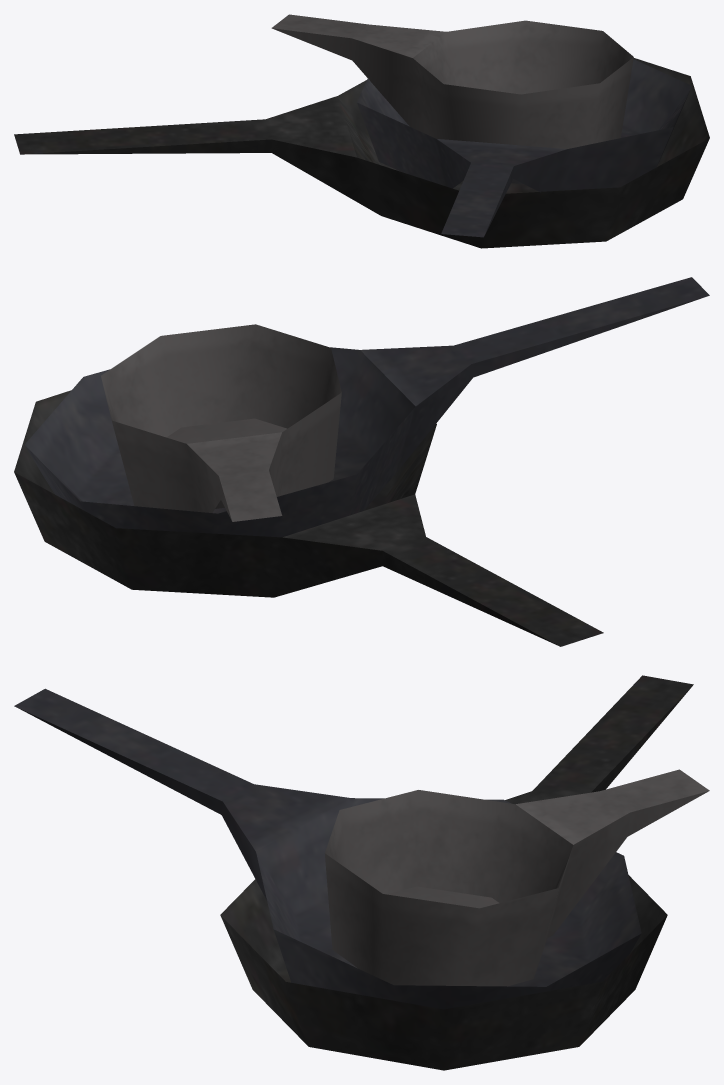
The model's file is SM_PotsAndPans.fbx.
The picture shows the model from 3 angles, top to bottom: view 1: azimuth 30°, elevation 25°; view 2: azimuth 150°, elevation 25°; view 3: azimuth 270°, elevation 25°; orthographic projection. The views are drawn at different scales.
Visible parts, largest first — view 1: SM_PotsAndPans; view 2: SM_PotsAndPans; view 3: SM_PotsAndPans.
Part boxes in pixels (x1,y1,x2,y2): SM_PotsAndPans: [14, 14, 709, 248]; SM_PotsAndPans: [14, 277, 709, 646]; SM_PotsAndPans: [14, 675, 709, 1070].
Size of the model in its own units: 20.45 by 4.51 by 18.13.
1 material, 1 textured.
